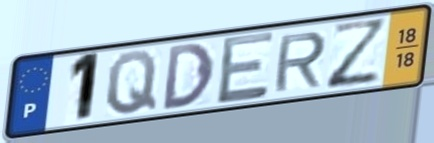1: (65, 50, 101, 125)
D: (161, 40, 217, 113)
E: (215, 28, 277, 108)
Q: (104, 48, 159, 117)
R: (271, 29, 330, 95)
Z: (324, 16, 392, 93)
